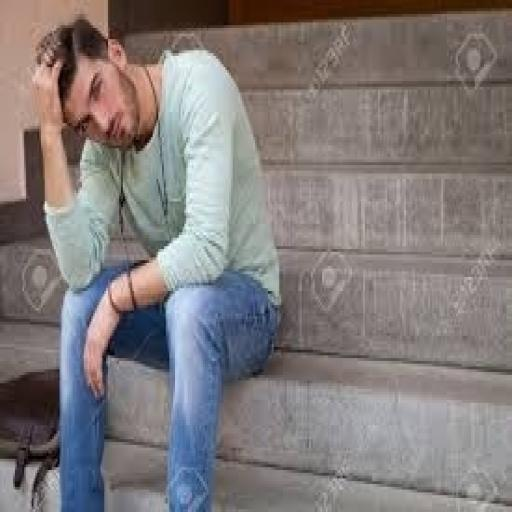sitting: (28, 14, 283, 509)
